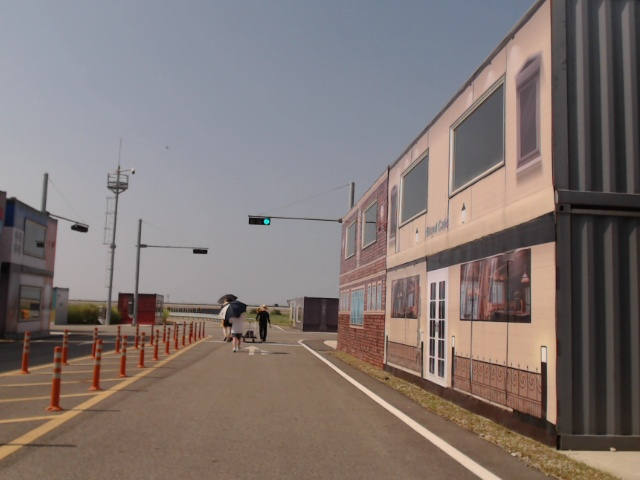green_3: (249, 217, 271, 225)
